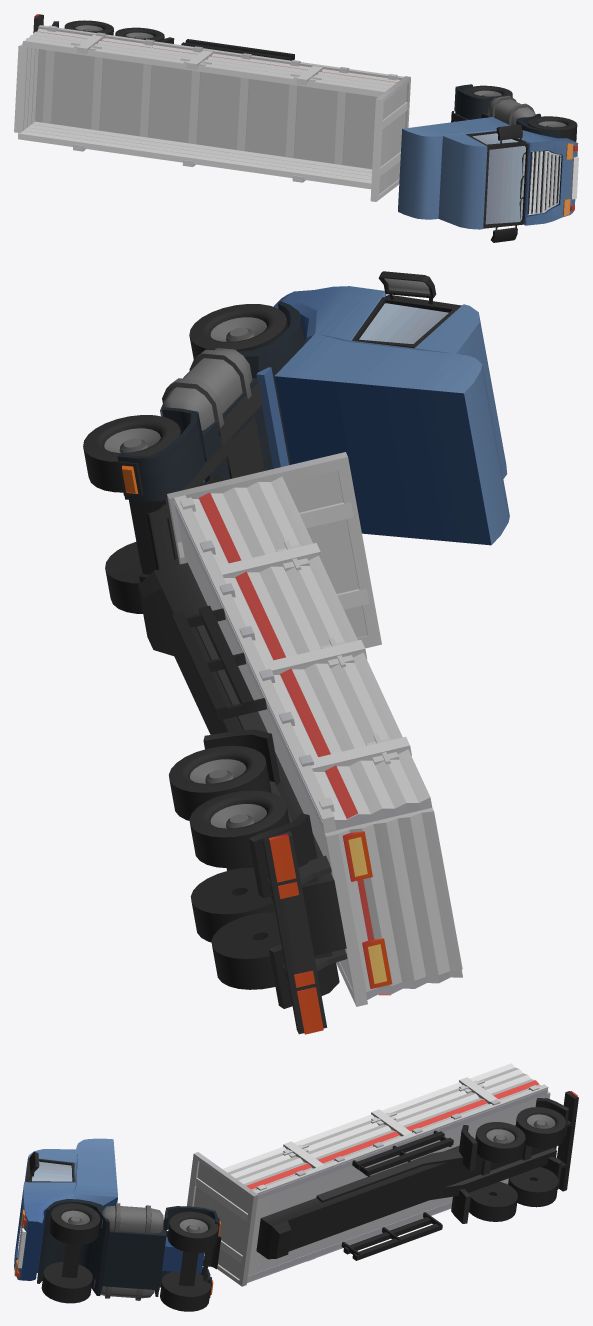
Rendered from truck_2 2.fbx.
The picture shows the model from 3 angles, top to bottom: view 1: azimuth 30°, elevation 25°; view 2: azimuth 150°, elevation 25°; view 3: azimuth 270°, elevation 25°; orthographic projection. The views are drawn at different scales.
Parts seen in each view (by area): view 1: TruckTrailerOpen, truck_2_2, Cube_003, Cube_002, Cube_008; view 2: truck_2_2, TruckTrailerOpen, Cube_003, Cube_008; view 3: TruckTrailerOpen, truck_2_2, Cube_003, Cube_002.
Part boxes in pixels (x1,y1,x2,y2): TruckTrailerOpen: (33,14,410,201); truck_2_2: (398,84,578,242); Cube_003: (22,28,399,96); Cube_002: (18,121,372,189); Cube_008: (14,43,39,132); truck_2_2: (83,271,509,613); TruckTrailerOpen: (138,452,381,1034); Cube_003: (174,476,432,832); Cube_008: (324,808,462,994); TruckTrailerOpen: (187,1084,578,1286); truck_2_2: (14,1138,221,1311); Cube_003: (222,1063,547,1199); Cube_002: (247,1181,508,1281).
Size of the model in its own units: 476 by 179 by 669.
